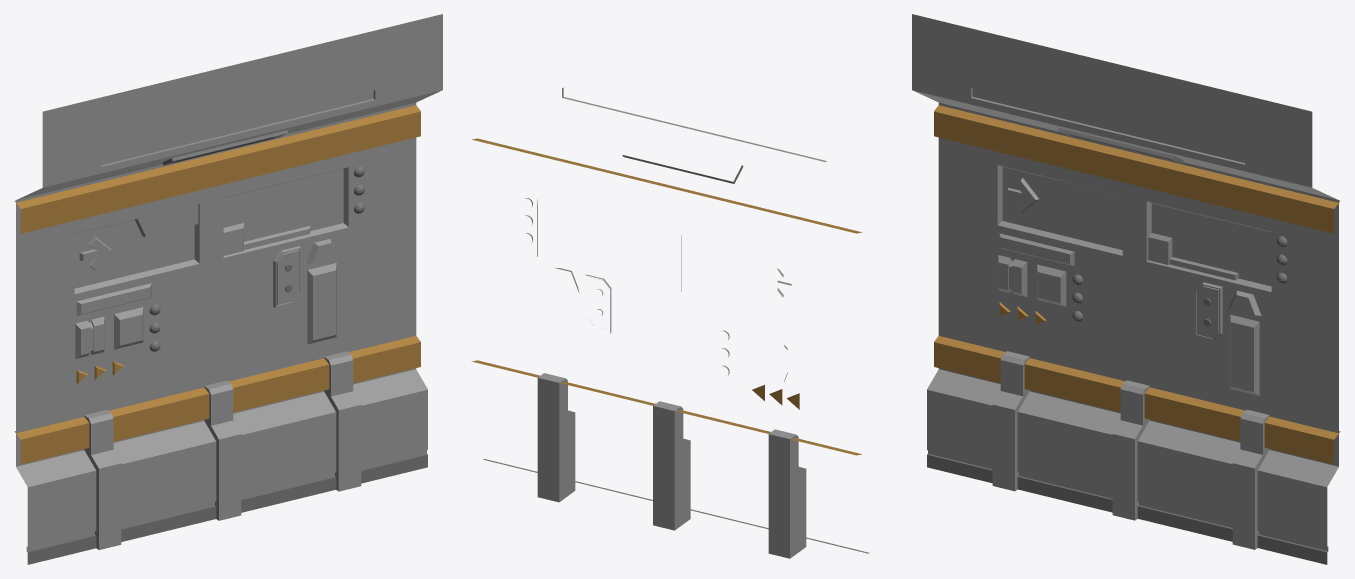
Rendered from Wall_4.glb.
3 renders of one model, left to right at view 1: azimuth 30°, elevation 25°; view 2: azimuth 150°, elevation 25°; view 3: azimuth 330°, elevation 25°, orthographic. The views are drawn at different scales.
Visible parts, largest first — view 1: Wall_4; view 2: Wall_4; view 3: Wall_4.
Boxes of the visible parts, bbox=[...] form: Wall_4: bbox=[14, 14, 442, 564]; Wall_4: bbox=[471, 87, 869, 558]; Wall_4: bbox=[912, 14, 1340, 564].
Bounding box in the file's own units: 4 × 4.43 × 0.5726.
